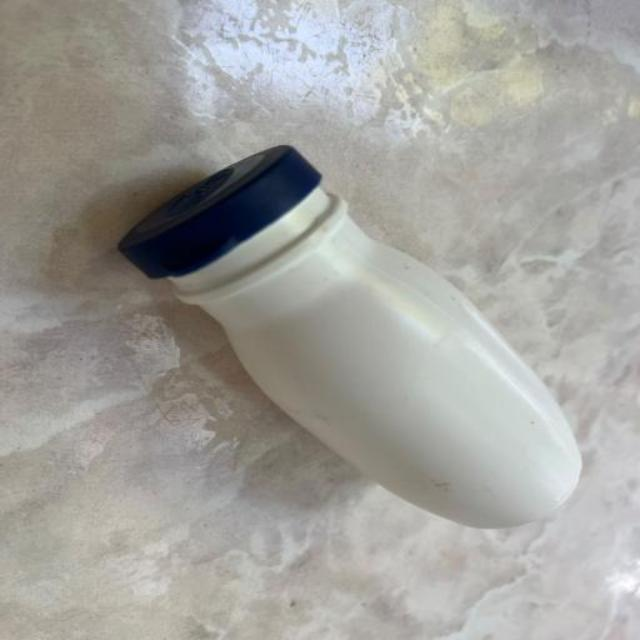HDPE: (80, 128, 615, 578)
